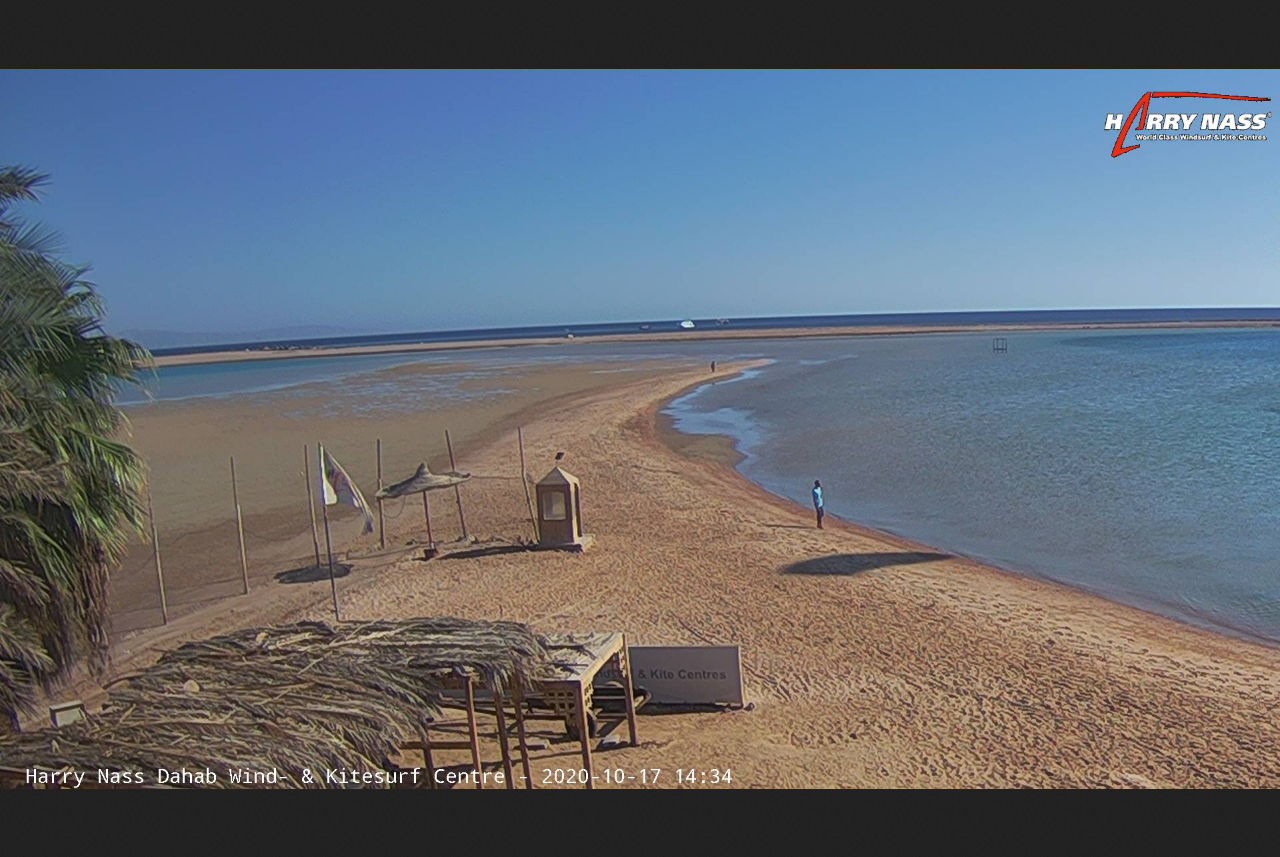maybe: (317, 444, 385, 538)
